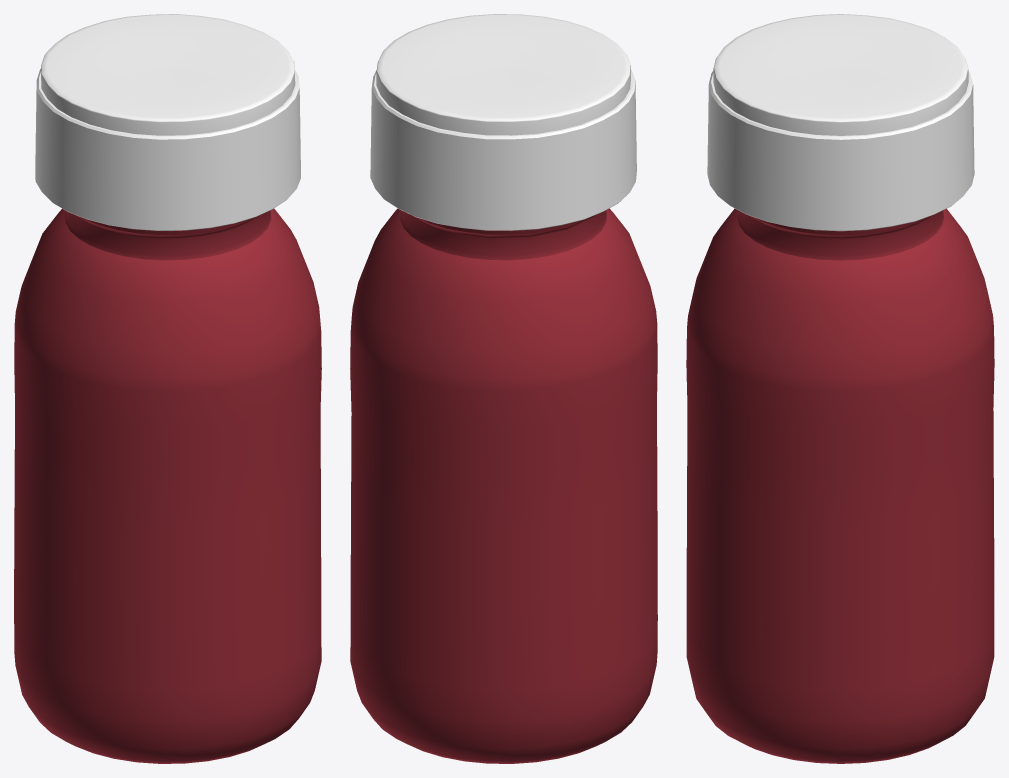
The model's file is basic_medicine_bottle_v1.glb.
3 views of the same model, side by side, from view 1: azimuth 30°, elevation 25°; view 2: azimuth 150°, elevation 25°; view 3: azimuth 270°, elevation 25° (orthographic).
Visible parts, largest first — view 1: medicine_bottle_v1; view 2: medicine_bottle_v1; view 3: medicine_bottle_v1.
Part boxes in pixels (<box>): medicine_bottle_v1: <box>14,14,321,763</box>; medicine_bottle_v1: <box>350,14,657,763</box>; medicine_bottle_v1: <box>686,14,994,763</box>.
Size of the model in its own units: 13.09 by 30.34 by 13.08.
1 material, 1 textured.
